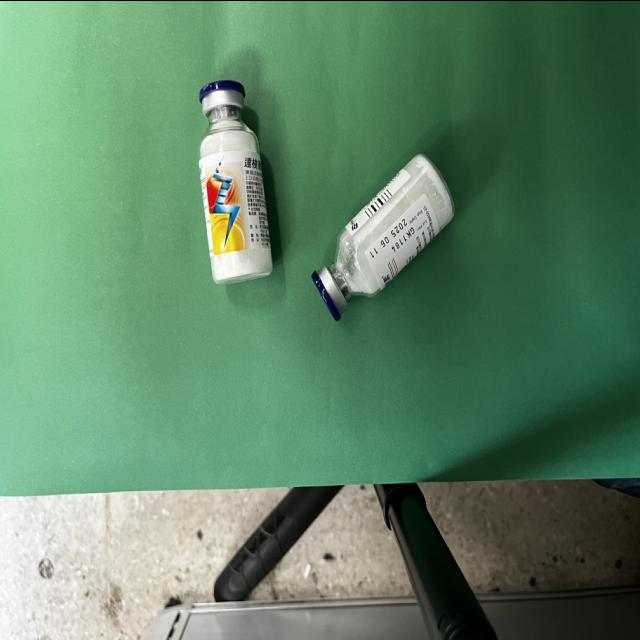Vials: (312, 151, 456, 320), (199, 77, 274, 283)
